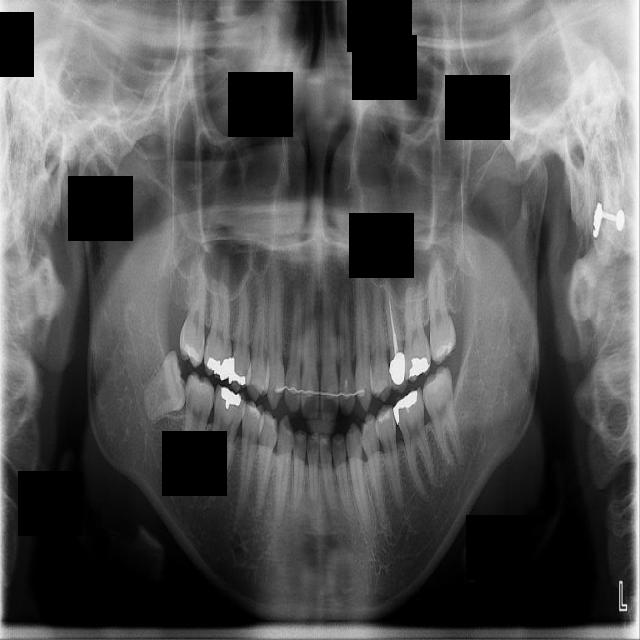52: (418, 316, 471, 367), (205, 384, 251, 431), (386, 387, 433, 431), (195, 336, 238, 383), (402, 338, 431, 383), (178, 323, 206, 368), (226, 354, 254, 394), (373, 402, 400, 443), (239, 403, 265, 438), (389, 352, 410, 394)
73: (383, 286, 405, 362), (597, 561, 601, 567)
BioHorizons Implant: (425, 245, 457, 366)
Blue Sky Bio Implant: (418, 365, 466, 469)
Caries: (178, 245, 212, 368)
Implant: (177, 371, 217, 483)
Keystone Dental Implant: (130, 349, 193, 422)
